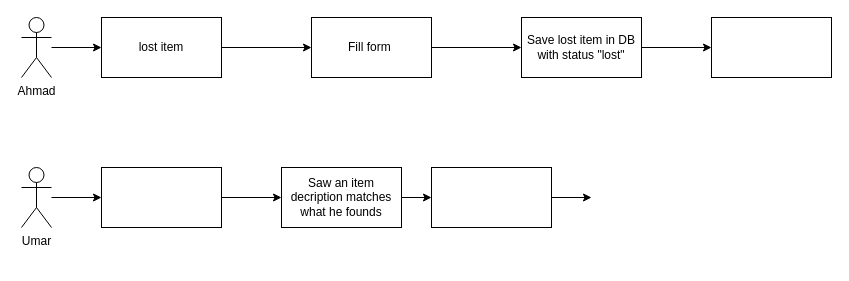
Image size: 849x281. Some labels were removed from this diagram. Each missing label, with the centre of its shape:
Press the I found this button: the point at 491,197
The item is displayed in the lost items page: the point at 771,47
Umar visits the apps lost items page: the point at 161,197
